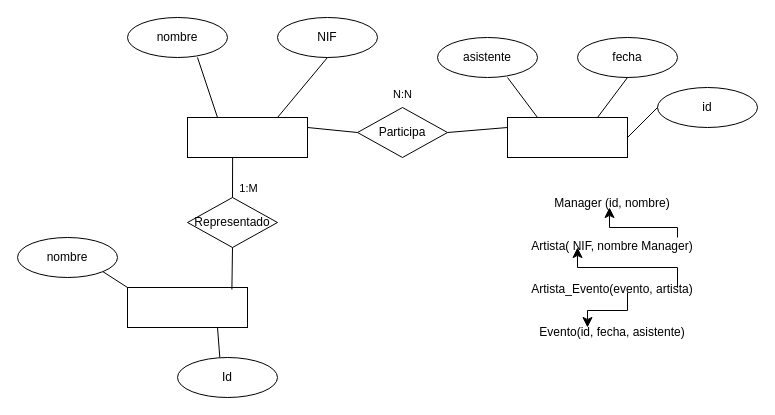
Some shapes in this 775 by 415 pixel diagram are drawn without their labels. Each missing label, with the centre of its shape:
"Artista" belongs at point 247,137.
"Manager" belongs at point 187,307.
"Proveedor" belongs at point 567,137.
